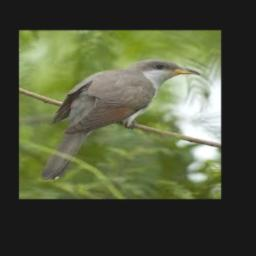Cuckoo: (41, 59, 199, 181)
